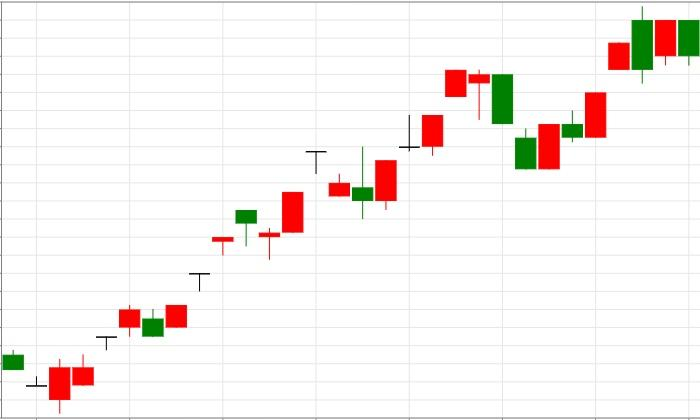bearish_engulfing_fall: (515, 6, 654, 170)
bullish_engulfing_rise: (445, 69, 561, 170)
